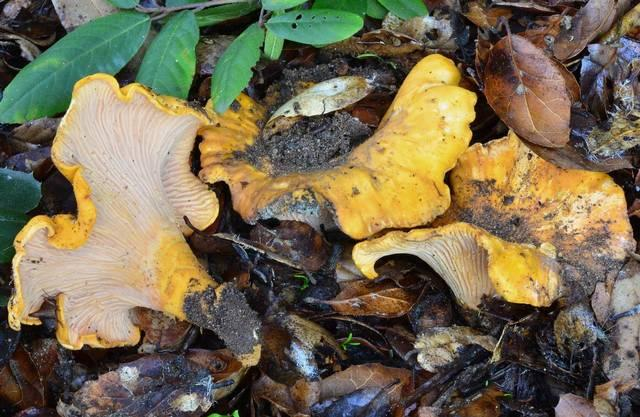Edible Mushroom: (6, 71, 262, 358), (196, 52, 478, 240), (350, 139, 626, 315)
